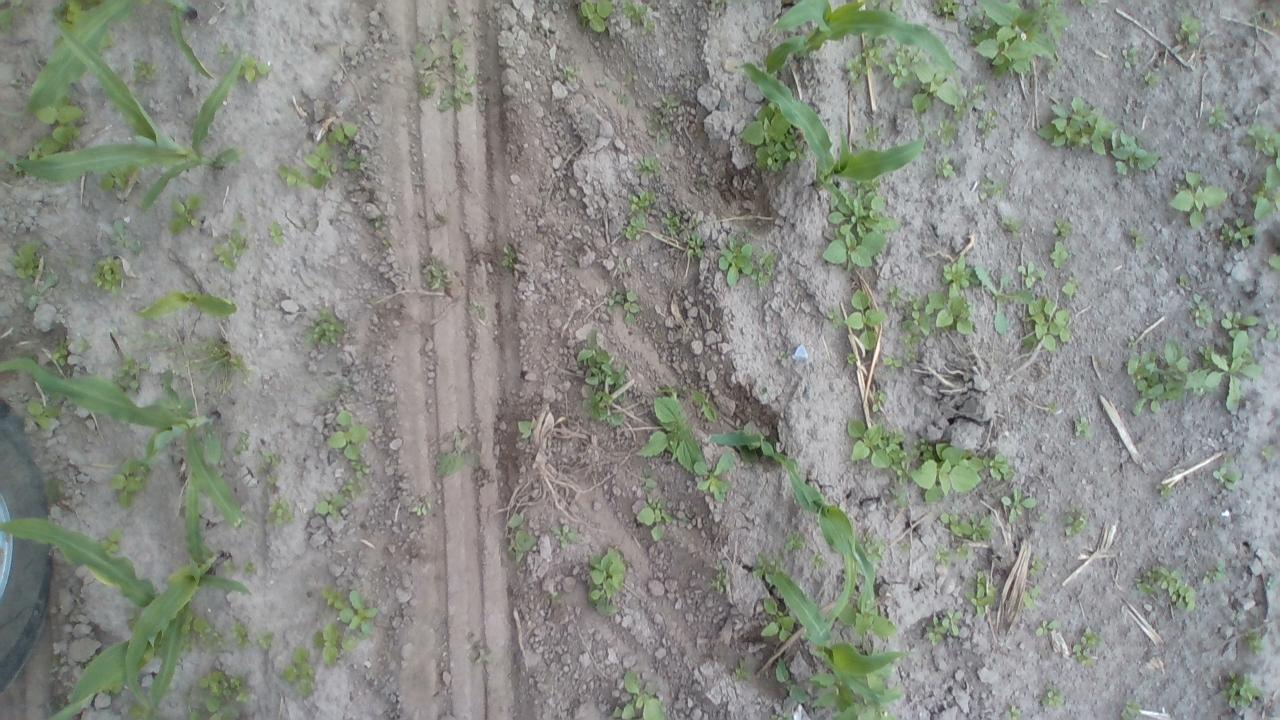Maize: (0, 357, 248, 566), (2, 21, 244, 214), (0, 515, 191, 717), (124, 476, 251, 714), (709, 432, 874, 598), (740, 60, 928, 201), (1, 0, 216, 118), (769, 568, 909, 702), (766, 1, 956, 90), (134, 293, 238, 321), (49, 694, 98, 720)
Weeds: (1122, 330, 1260, 417), (973, 0, 1068, 72), (909, 437, 1015, 501), (822, 180, 896, 268), (412, 13, 478, 110), (578, 328, 634, 429), (633, 394, 703, 472), (1034, 90, 1106, 156), (974, 265, 1032, 336), (884, 284, 930, 369), (744, 108, 806, 170), (1172, 171, 1229, 231), (848, 418, 906, 474), (584, 544, 628, 616), (908, 62, 962, 118), (190, 336, 245, 390), (32, 105, 86, 158), (1107, 124, 1159, 178), (1135, 566, 1195, 610), (845, 288, 886, 351), (1023, 298, 1072, 350), (925, 289, 976, 337), (618, 670, 667, 718), (813, 674, 864, 720), (638, 492, 681, 544), (336, 590, 386, 634), (326, 412, 370, 460), (110, 459, 150, 510), (314, 624, 362, 666), (840, 604, 896, 640), (694, 453, 738, 497), (283, 644, 318, 698), (940, 509, 1003, 538), (1254, 160, 1280, 228), (1221, 672, 1264, 713), (508, 514, 544, 562), (434, 452, 484, 485), (304, 306, 344, 346), (648, 93, 678, 146), (720, 239, 754, 285), (168, 196, 206, 236), (941, 256, 981, 294), (761, 598, 797, 640), (212, 229, 250, 268), (24, 275, 62, 313), (923, 610, 963, 646), (626, 190, 654, 240), (305, 139, 333, 188), (964, 570, 994, 615), (114, 220, 146, 261), (118, 358, 150, 398), (608, 288, 643, 324), (1002, 484, 1035, 522), (776, 660, 807, 700), (1070, 627, 1102, 665), (576, 0, 612, 33), (1218, 217, 1256, 247), (95, 257, 126, 293), (26, 400, 62, 430), (886, 48, 912, 88), (1248, 123, 1278, 157), (8, 241, 36, 277), (198, 671, 232, 700), (190, 700, 238, 720), (98, 172, 140, 194), (978, 112, 1005, 146), (755, 246, 779, 284), (688, 389, 716, 421), (976, 172, 1009, 198), (1015, 261, 1046, 288), (1064, 503, 1086, 540), (552, 526, 581, 554), (1174, 17, 1204, 44), (1220, 312, 1263, 330), (860, 532, 889, 558), (41, 476, 66, 506), (324, 123, 361, 143), (130, 59, 158, 85), (937, 156, 963, 184), (1212, 464, 1240, 490), (1191, 296, 1213, 329), (280, 165, 312, 187), (316, 494, 342, 521), (1050, 241, 1074, 270), (242, 57, 272, 80), (181, 612, 211, 635), (324, 586, 351, 611), (422, 264, 446, 290), (622, 1, 648, 25), (267, 499, 291, 524), (864, 126, 889, 150), (708, 562, 728, 592), (343, 478, 369, 501), (752, 555, 778, 578), (936, 118, 958, 144), (1023, 584, 1042, 613), (100, 530, 125, 552), (846, 53, 866, 80), (1042, 688, 1064, 712), (868, 673, 894, 693), (1200, 563, 1227, 582), (856, 705, 890, 720), (1121, 50, 1142, 74), (863, 43, 883, 68), (62, 2, 84, 24), (412, 498, 434, 520), (824, 308, 848, 328), (1249, 628, 1266, 656), (1120, 702, 1146, 720), (1208, 104, 1228, 127), (870, 388, 886, 416), (231, 433, 252, 454), (262, 451, 286, 469), (967, 82, 988, 102), (638, 475, 658, 496), (784, 532, 804, 553), (1074, 415, 1092, 438), (267, 222, 284, 246), (52, 345, 70, 367), (233, 622, 251, 644), (516, 416, 538, 434), (662, 218, 684, 236), (502, 244, 518, 268), (1036, 620, 1060, 636), (352, 457, 372, 476), (1128, 226, 1146, 247), (935, 0, 960, 15), (684, 236, 702, 256), (1000, 216, 1021, 233), (0, 4, 13, 30), (636, 153, 658, 168), (1053, 220, 1071, 238), (258, 631, 276, 648), (736, 657, 750, 678), (956, 540, 972, 558), (1062, 277, 1077, 295), (1028, 559, 1044, 575), (560, 63, 576, 78), (1264, 323, 1280, 338), (216, 43, 230, 59), (230, 677, 244, 692), (934, 548, 949, 562), (658, 384, 677, 395), (232, 692, 250, 703), (1267, 254, 1280, 269), (244, 562, 256, 576), (266, 474, 278, 488), (222, 562, 235, 574), (1155, 483, 1169, 494), (1145, 70, 1156, 84), (1009, 706, 1019, 720), (1179, 274, 1189, 287), (847, 354, 859, 364), (1046, 402, 1056, 414), (645, 22, 655, 34), (1262, 446, 1272, 456), (1271, 17, 1280, 26), (1081, 0, 1092, 7)
